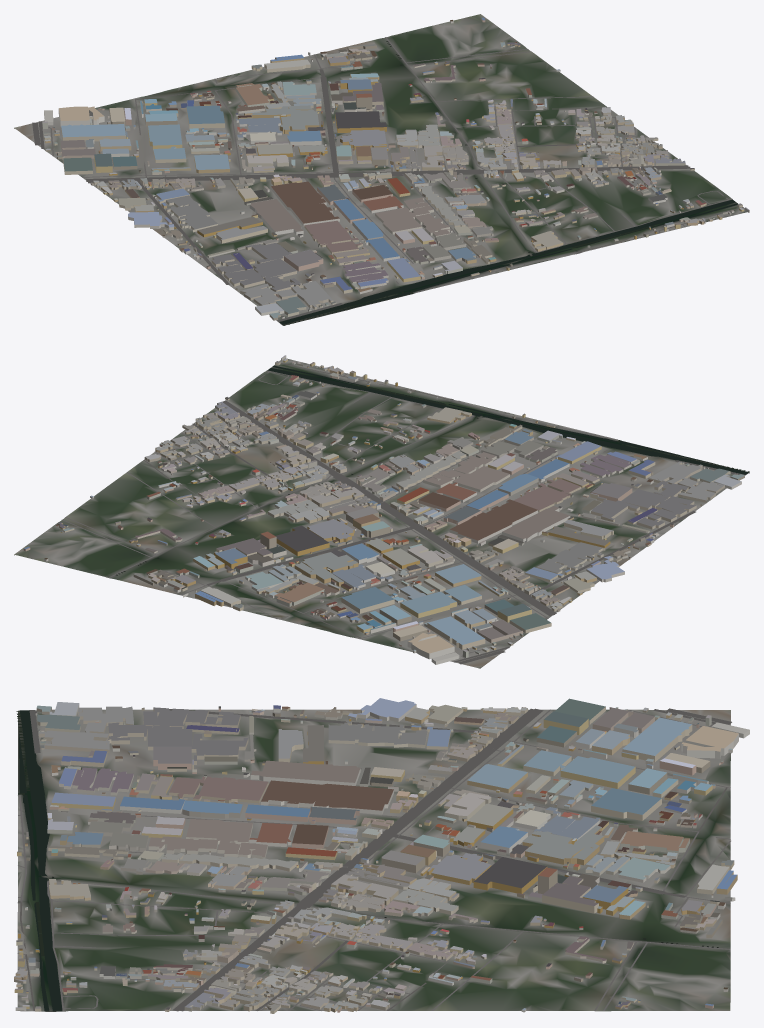
3 views of the same model, one above another, from view 1: azimuth 30°, elevation 25°; view 2: azimuth 150°, elevation 25°; view 3: azimuth 270°, elevation 25° (orthographic). The views are drawn at different scales.
Parts seen in each view (by area): view 1: buildings, ground, roads, water; view 2: buildings, ground, roads, water; view 3: buildings, ground, roads, water.
Boxes of the visible parts, left/top/right/bottom form: buildings: left=42, top=17, right=749, bottom=320; ground: left=14, top=14, right=747, bottom=325; roads: left=32, top=37, right=743, bottom=321; water: left=279, top=41, right=737, bottom=325; buildings: left=23, top=355, right=744, bottom=664; ground: left=14, top=358, right=749, bottom=668; roads: left=62, top=363, right=744, bottom=664; water: left=116, top=365, right=749, bottom=575; buildings: left=14, top=698, right=749, bottom=1013; ground: left=17, top=709, right=730, bottom=1011; roads: left=17, top=708, right=731, bottom=1011; water: left=16, top=710, right=718, bottom=1011.
Bounding box in the file's own units: 1449 × 46 × 1446.
